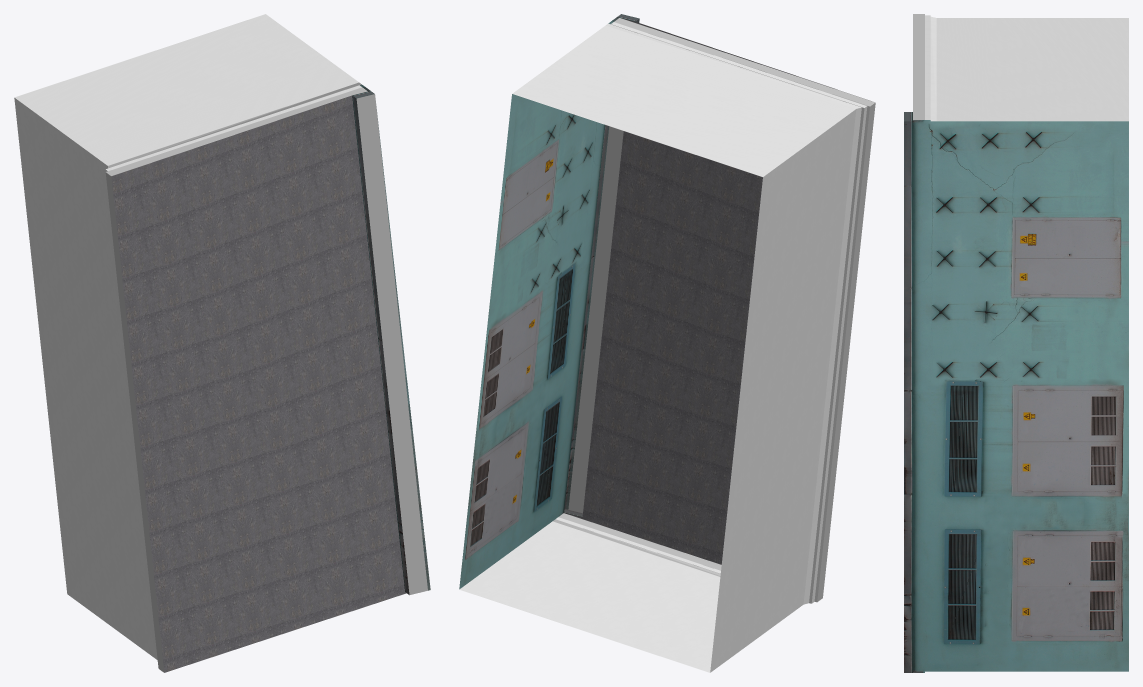
File: Aia_17a-origo.obj
The picture shows the model from 3 angles, left to right: view 1: azimuth 30°, elevation 25°; view 2: azimuth 150°, elevation 25°; view 3: azimuth 270°, elevation 25°; orthographic projection. The views are drawn at different scales.
Parts seen in each view (by area): view 1: Aia_17a, xxx; view 2: Aia_17a, xxx; view 3: Aia_17a, xxx.
Boxes of the visible parts, box(x1,y1,x2,y2) form: Aia_17a: box(14, 64, 430, 672); xxx: box(14, 14, 333, 147); Aia_17a: box(459, 14, 875, 672); xxx: box(512, 44, 830, 176); Aia_17a: box(904, 14, 1128, 672); xxx: box(989, 18, 1128, 121).
Bounding box in the file's own units: 7.44 × 12 × 4.47.
